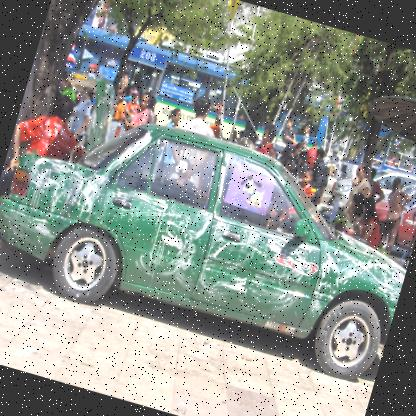Car: (0, 82, 415, 390)
